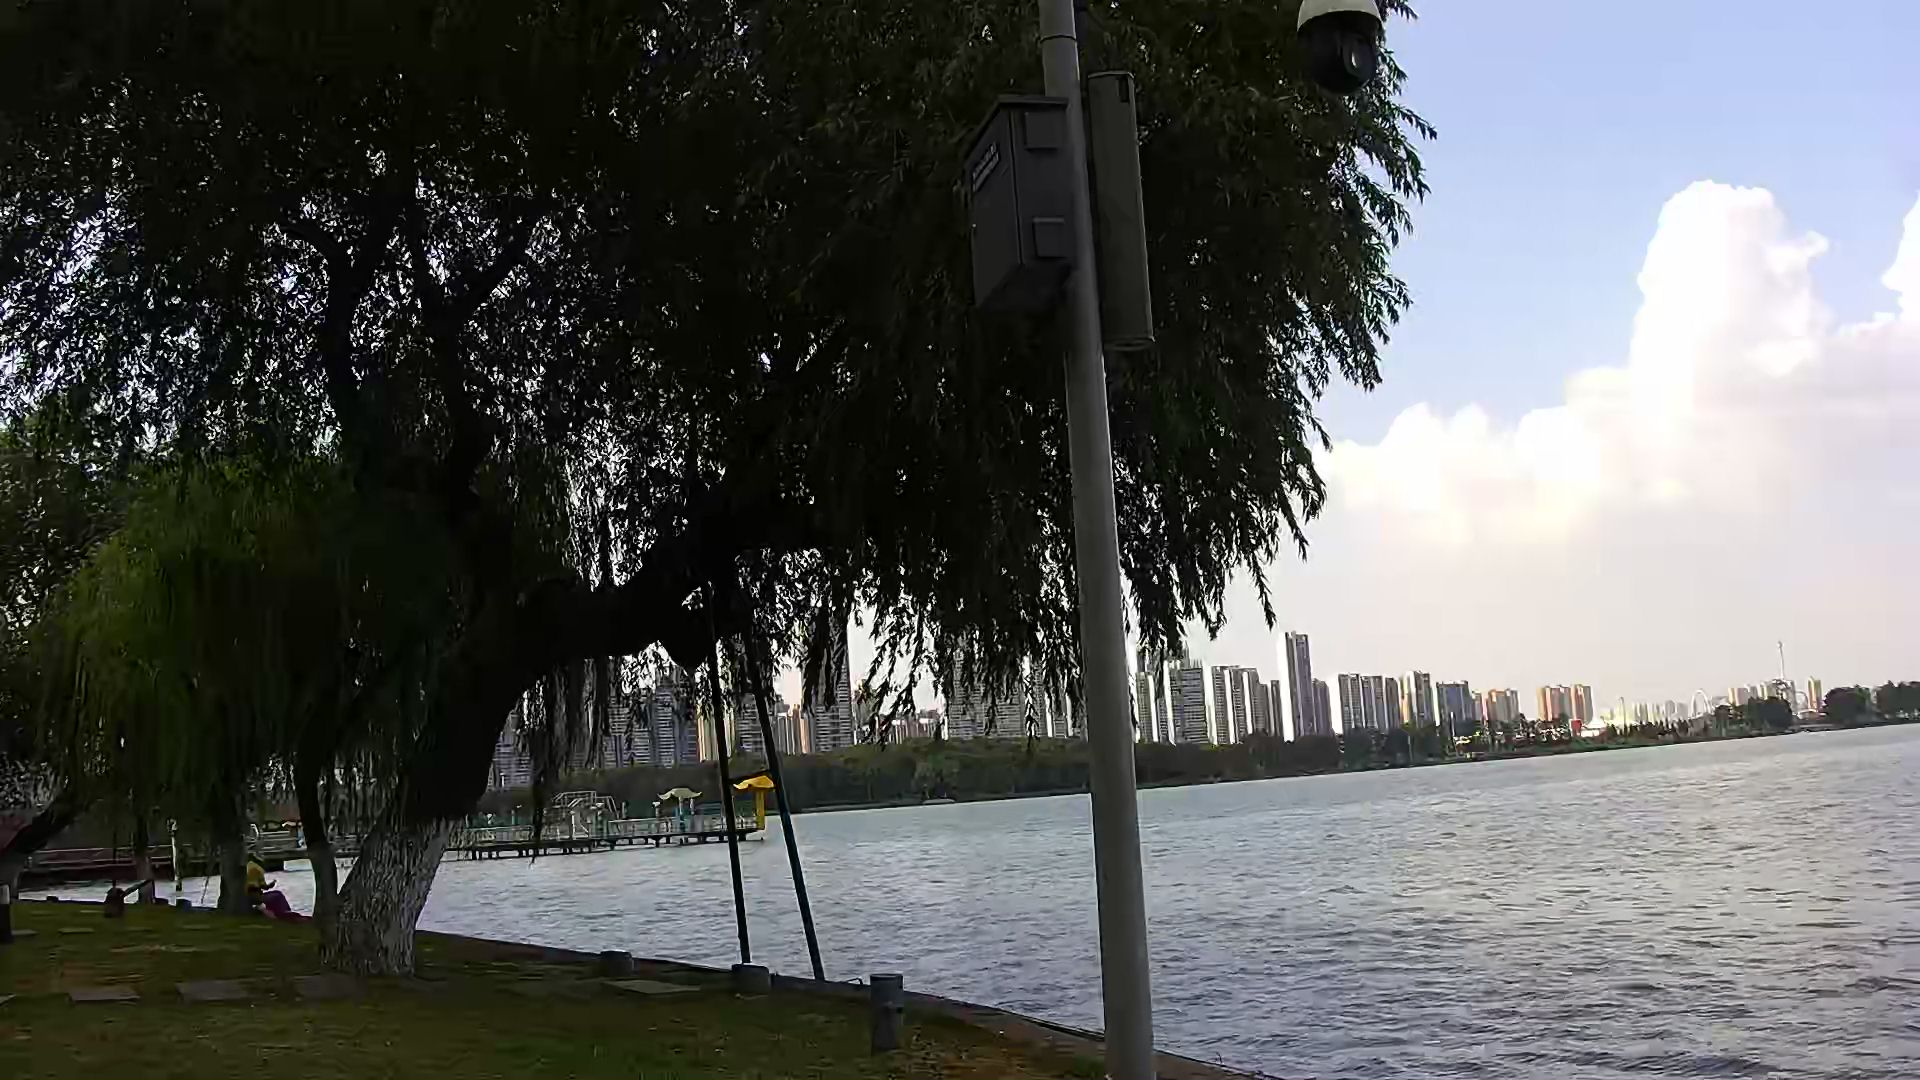harbor: (477, 796, 767, 853)
